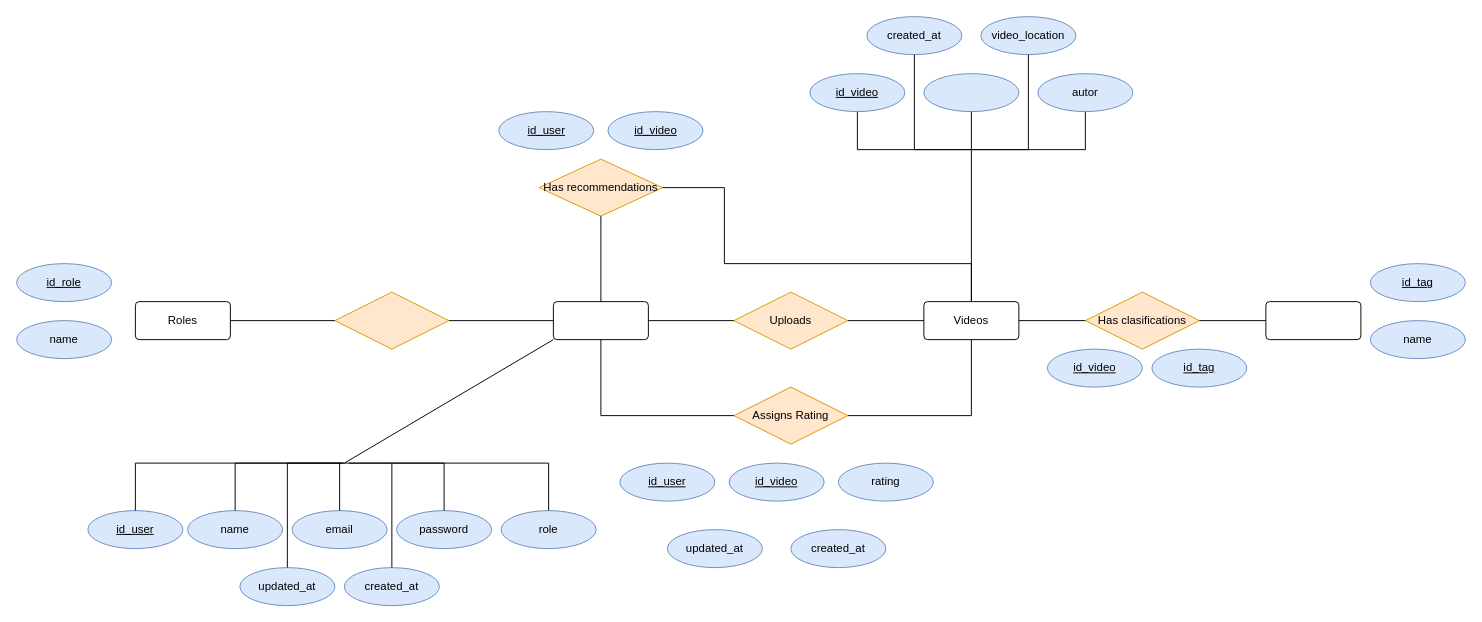
Image size: 1482x622. Some labels were removed from this diagram. The centre of each missing label's shape, as x and y in pixels:
Has: point 391,320
Tags: point 1313,320
titulo: point 971,92
Users: point 600,320
